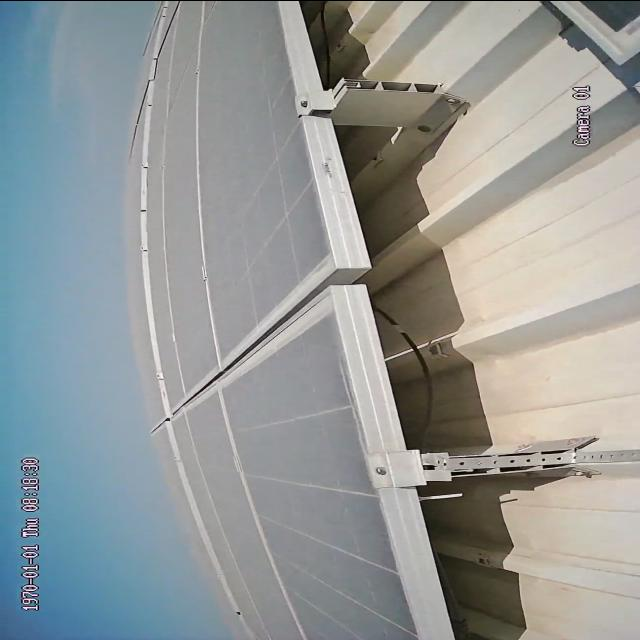interior panel: (174, 253, 333, 417)
outher panel: (272, 0, 640, 640)
